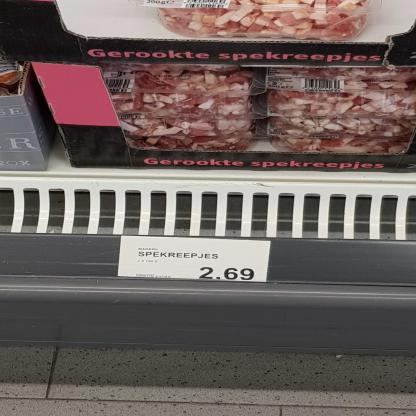prtg: (118, 236, 272, 283)
